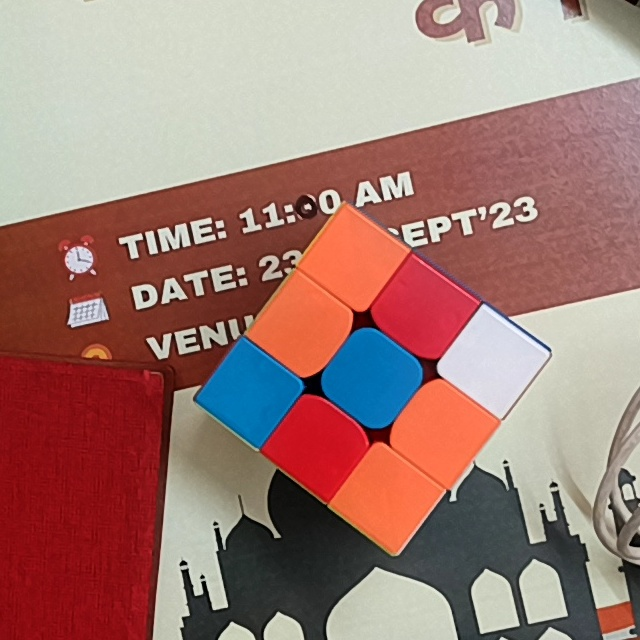tile: (411, 399, 470, 458), (288, 415, 346, 472), (342, 351, 399, 407), (277, 296, 333, 353), (468, 330, 521, 390), (357, 469, 413, 525), (393, 281, 449, 336), (326, 229, 381, 284), (222, 365, 278, 418)
